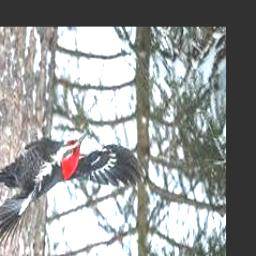Woodpecker: (0, 131, 146, 249)
